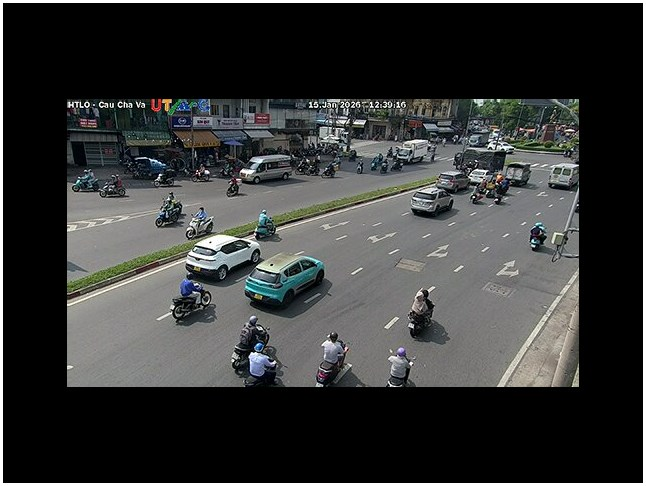car: (244, 250, 326, 308), (185, 234, 262, 281), (240, 155, 294, 183), (410, 188, 455, 218), (548, 163, 579, 191), (436, 171, 470, 193)
motorbike: (171, 281, 214, 323), (315, 353, 350, 387), (185, 205, 214, 240), (155, 193, 184, 228), (255, 208, 277, 241)
truck: (402, 139, 436, 164)
